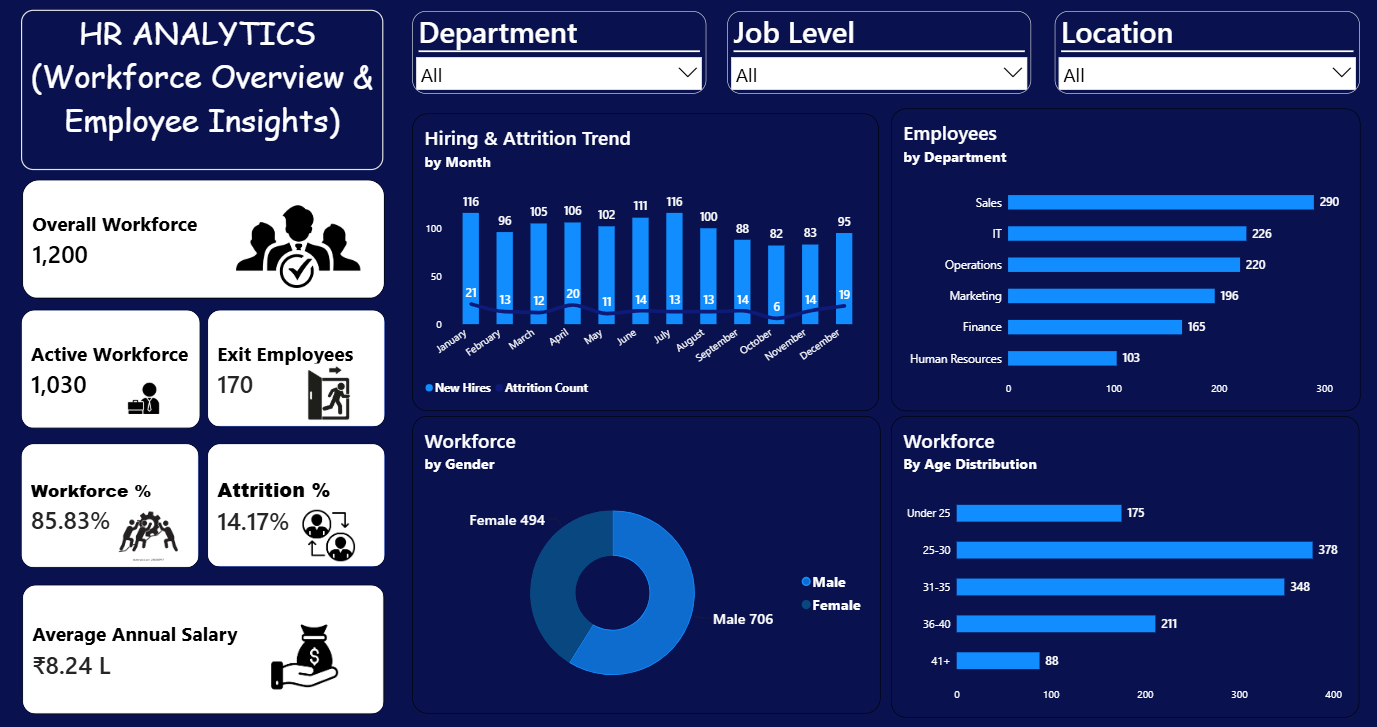

The page's visual inventory and layout, read from the dashboard file:
{"tool":"powerbi","page":{"name":"Workforce Overview & Employee Insights","canvas":[1929,1031],"ordinal":0},"visuals":[{"type":"slicer","fields":{"Values":["Department_Dim.Department"]},"box":[581.8,28.1,406,114.3],"z":0},{"type":"cardVisual","fields":{"Data":["Employee_Data.Total Employees"]},"box":[43.9,260.1,501.1,164.8],"z":0,"group":"g1"},{"type":"cardVisual","fields":{"Data":["Employee_Data.Active Employees"]},"box":[42.2,441.2,248.4,164.8],"z":0,"group":"g2"},{"type":"cardVisual","fields":{"Data":["Employee_Data.Exit Employees"]},"box":[298.8,441.2,246.2,162.6],"z":0,"group":"g7"},{"type":"cardVisual","fields":{"Data":["Employee_Data.Active Workforce%"]},"box":[42.2,625.7,246.5,172.1],"z":0,"group":"g8"},{"type":"cardVisual","fields":{"Data":["Employee_Data.Attrition %"]},"box":[298.8,625.7,246.2,171.4],"z":0,"group":"g9"},{"type":"cardVisual","fields":{"Data":["Employee_Data.salary display"]},"box":[43.9,820.9,500.9,179.3],"z":0,"group":"g10"},{"type":"group","id":"g1","title":"Group 1","box":[43.9,260.1,500.9,165.2],"z":3},{"type":"group","id":"g2","title":"Group 1","box":[42.2,441.2,247.8,165.2],"z":4},{"type":"lineStackedColumnComboChart","title":"Hiring & Attrition Trend","fields":{"Category":["Date_Table.Year-Month.Variation.Date Hierarchy.Quarter","Date_Table.Year-Month.Variation.Date Hierarchy.Month"],"Y":["Employee_Data.New Hires"],"Y2":["Employee_Data.Attrition Count"]},"box":[581.8,168.7,645.1,411.3],"z":5},{"type":"slicer","fields":{"Values":["Employee_Data.Job_Level"]},"box":[1017.7,28.1,420.1,114.3],"z":6},{"type":"slicer","fields":{"Values":["Employee_Data.Location"]},"box":[1469.5,28.1,421.9,114.3],"z":7},{"type":"clusteredBarChart","title":"Employees","fields":{"Category":["Employee_Data.Department"],"Y":["Employee_Data.Total Employees"]},"box":[1244.5,161.7,648.6,418.3],"z":8},{"type":"donutChart","title":"Workforce","fields":{"Category":["Employee_Data.Gender"],"Y":["Employee_Data.Total Employees"]},"box":[581.8,587.1,646.8,411.3],"z":9},{"type":"clusteredBarChart","title":"Workforce","fields":{"Category":["Employee_Data.Age Group"],"Y":["Employee_Data.Total Employees"]},"box":[1244.5,587.1,646.8,416.6],"z":10},{"type":"group","id":"g3","title":"Group 2","box":[43.9,820.9,500.9,179.3],"z":11},{"type":"group","id":"g4","title":"Group 2","box":[42.2,625.7,246.1,170.5],"z":12},{"type":"group","id":"g5","title":"Group 2","box":[298.8,625.7,246.1,172.3],"z":13},{"type":"group","id":"g6","title":"Group 2","box":[298.8,441.2,246.1,163.5],"z":14},{"type":"textbox","box":[41.8,26.4,501.1,222],"z":15},{"type":"group","id":"g7","title":"Group 1","box":[298.8,441.2,246.2,162.6],"z":1000,"group":"g6"},{"type":"group","id":"g8","title":"Group 1","box":[42.2,625.7,246.5,172.1],"z":1000,"group":"g4"},{"type":"group","id":"g9","title":"Group 1","box":[298.8,625.7,246.2,171.4],"z":1000,"group":"g5"},{"type":"group","id":"g10","title":"Group 1","box":[43.9,820.9,500.9,179.3],"z":1000,"group":"g3"},{"type":"image","box":[339.6,292.8,172.3,118.9],"z":3000,"group":"g1"},{"type":"image","box":[152.8,526.9,117.6,72.4],"z":3000,"group":"g2"},{"type":"image","box":[411.5,515.2,111.9,81.4],"z":3500,"group":"g6"},{"type":"image","box":[155.7,712,124.2,77.1],"z":3500,"group":"g4"},{"type":"image","box":[411.5,716.7,111.9,71.5],"z":3500,"group":"g5"},{"type":"image","box":[335.8,851,196.9,140.6],"z":3500,"group":"g3"}]}

Visuals, with their boxes in screenshot pixels (x1, y1, x2, y2), scaled from the page's 1929x1031 canvas onto the 1377x727 screenshot:
slicer - Department_Dim.Department: 415,20,705,100
cardVisual - Employee_Data.Total Employees: 31,183,389,300
cardVisual - Employee_Data.Active Employees: 30,311,207,427
cardVisual - Employee_Data.Exit Employees: 213,311,389,426
cardVisual - Employee_Data.Active Workforce%: 30,441,206,563
cardVisual - Employee_Data.Attrition %: 213,441,389,562
cardVisual - Employee_Data.salary display: 31,579,389,705
"Group 1" group: 31,183,389,300
"Group 1" group: 30,311,207,428
"Hiring & Attrition Trend" lineStackedColumnComboChart: 415,119,876,409
slicer - Employee_Data.Job_Level: 726,20,1026,100
slicer - Employee_Data.Location: 1049,20,1350,100
"Employees" clusteredBarChart: 888,114,1351,409
"Workforce" donutChart: 415,414,877,704
"Workforce" clusteredBarChart: 888,414,1350,708
"Group 2" group: 31,579,389,705
"Group 2" group: 30,441,206,561
"Group 2" group: 213,441,389,563
"Group 2" group: 213,311,389,426
textbox: 30,19,388,175
"Group 1" group: 213,311,389,426
"Group 1" group: 30,441,206,563
"Group 1" group: 213,441,389,562
"Group 1" group: 31,579,389,705
image: 242,206,365,290
image: 109,372,193,423
image: 294,363,374,421
image: 111,502,200,556
image: 294,505,374,556
image: 240,600,380,699
